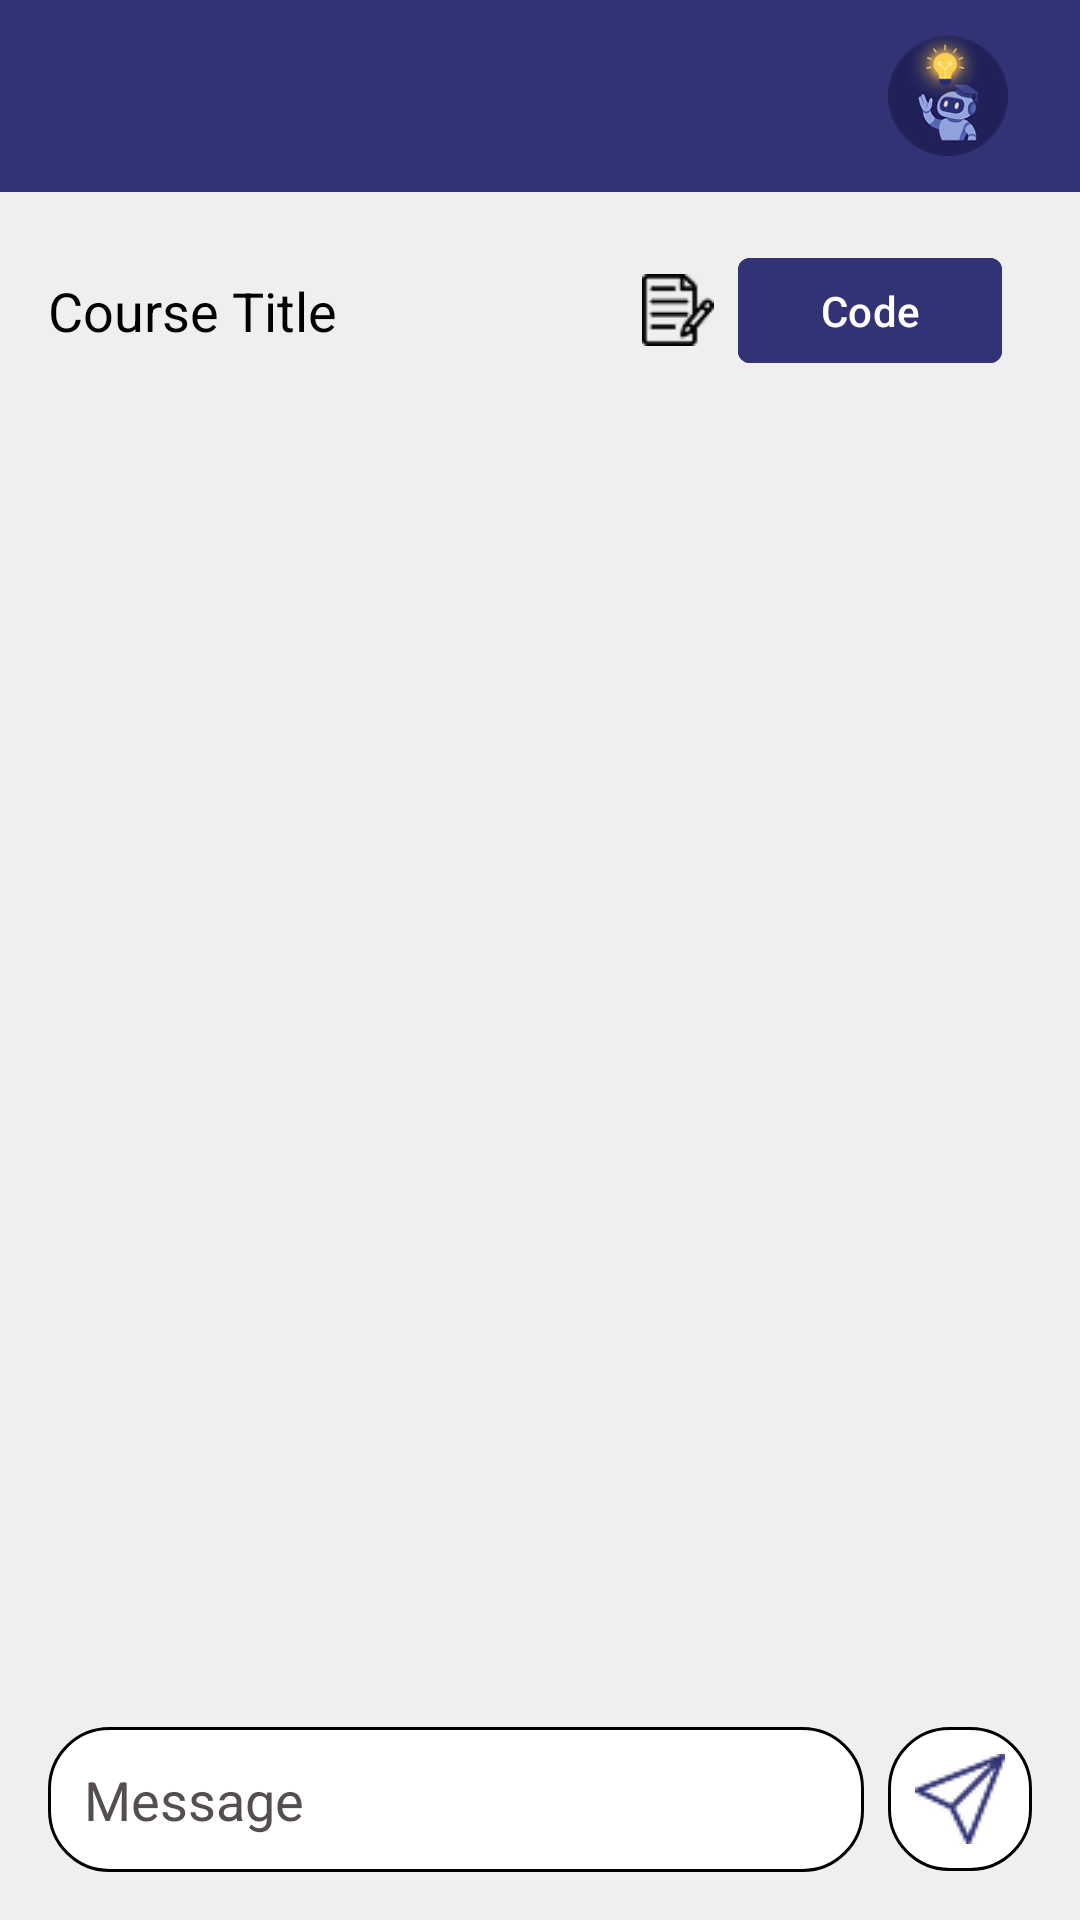

Icon click points for this 1080×1920 phone screenshot, format (x=x, y=y):
notes: (x=678, y=310)
send: (x=960, y=1799)
